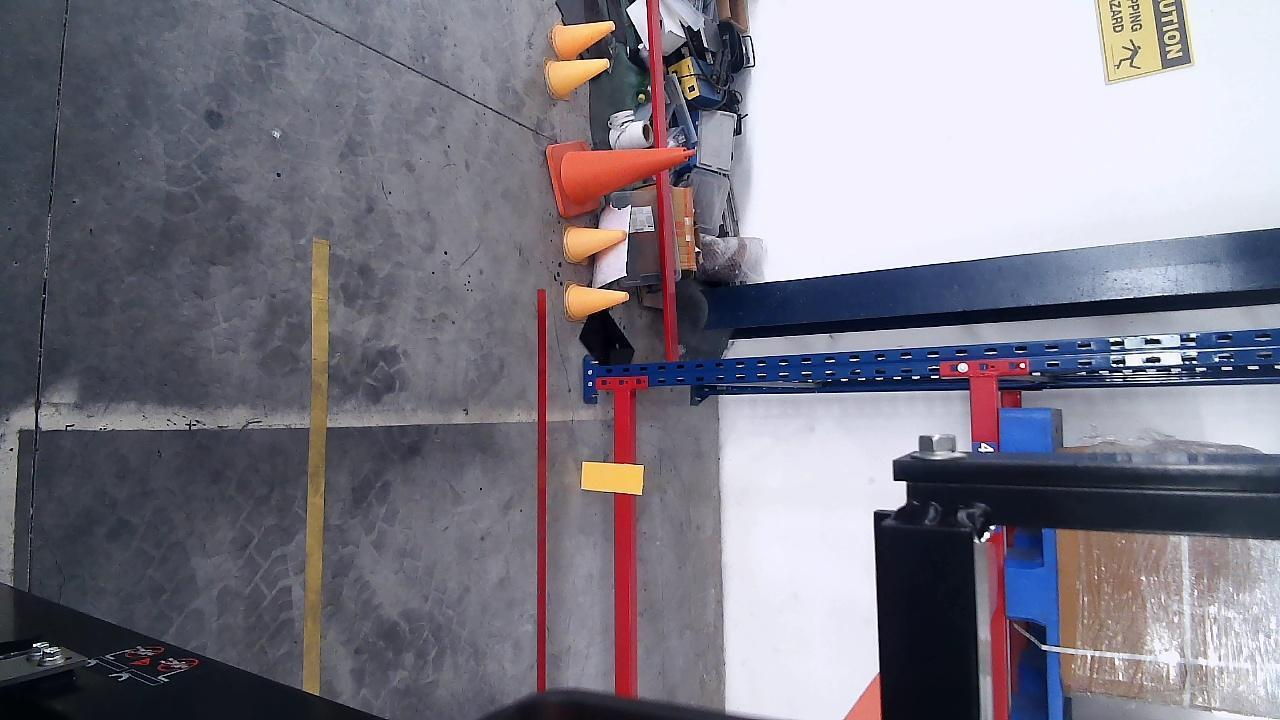red_line: (533, 288, 549, 697)
yellow_line: (300, 237, 329, 698)
